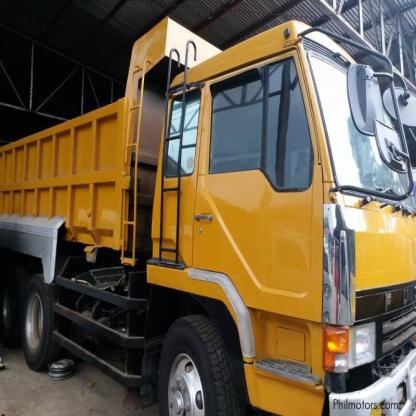truck: (1, 18, 416, 416)
